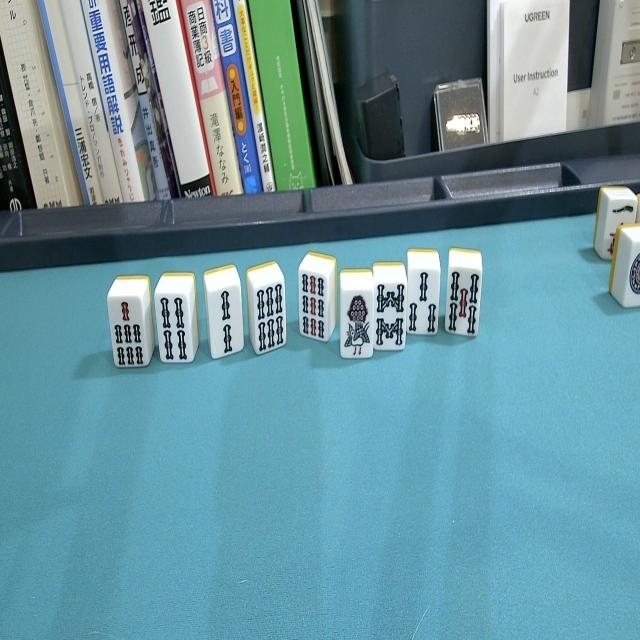1_sou: (341, 269, 375, 362)
2_sou: (203, 268, 245, 358)
3_sou: (406, 251, 440, 336)
4_sou: (155, 272, 199, 362)
5_sou: (447, 248, 482, 336)
7_man: (248, 270, 288, 352)
8_man: (107, 278, 151, 369)
9_man: (372, 261, 407, 351)
chun: (300, 246, 336, 343)
